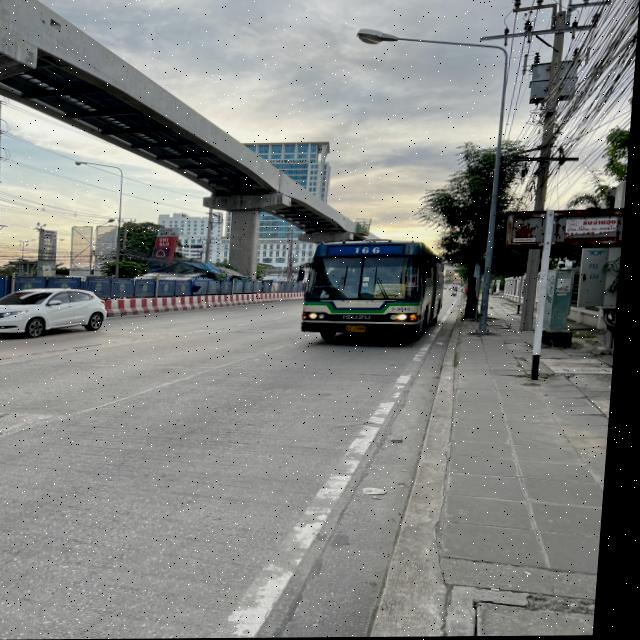BMTA-bus: (302, 236, 455, 344)
Bus-Line-Number: (356, 246, 388, 256)
Destination-Sign-Normal-Expressway: (379, 285, 412, 300)
